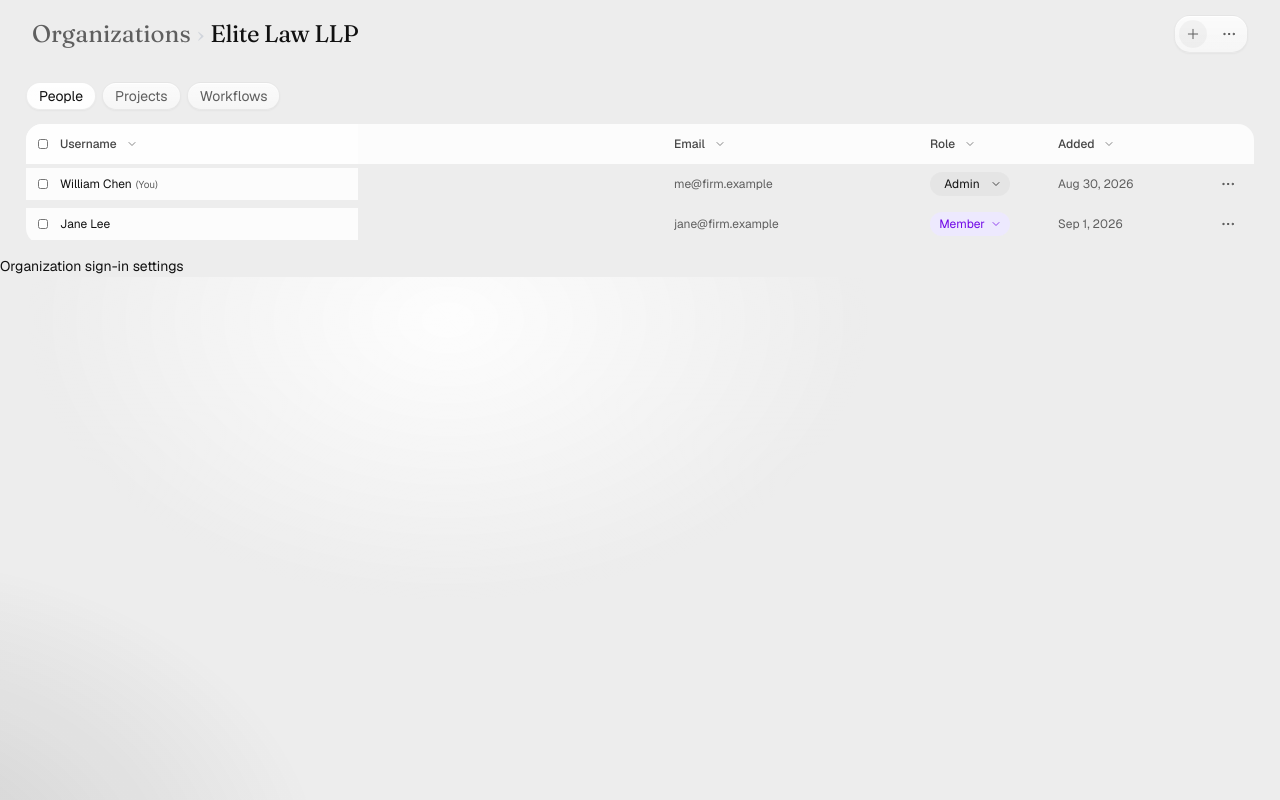
Test: OrganizationWorkspace › reveals a toolbar action and removes selected people
The width and height of the screenshot is (1280, 800).
Expected: the text "Jane Lee" is shown, top-left (60, 216), bottom-right (110, 232)
Expected: the button "Actions" is not shown
Click the checkbox named "Select Jane Lee". click: (43, 224)
box: top-left (38, 219), bottom-right (48, 229)
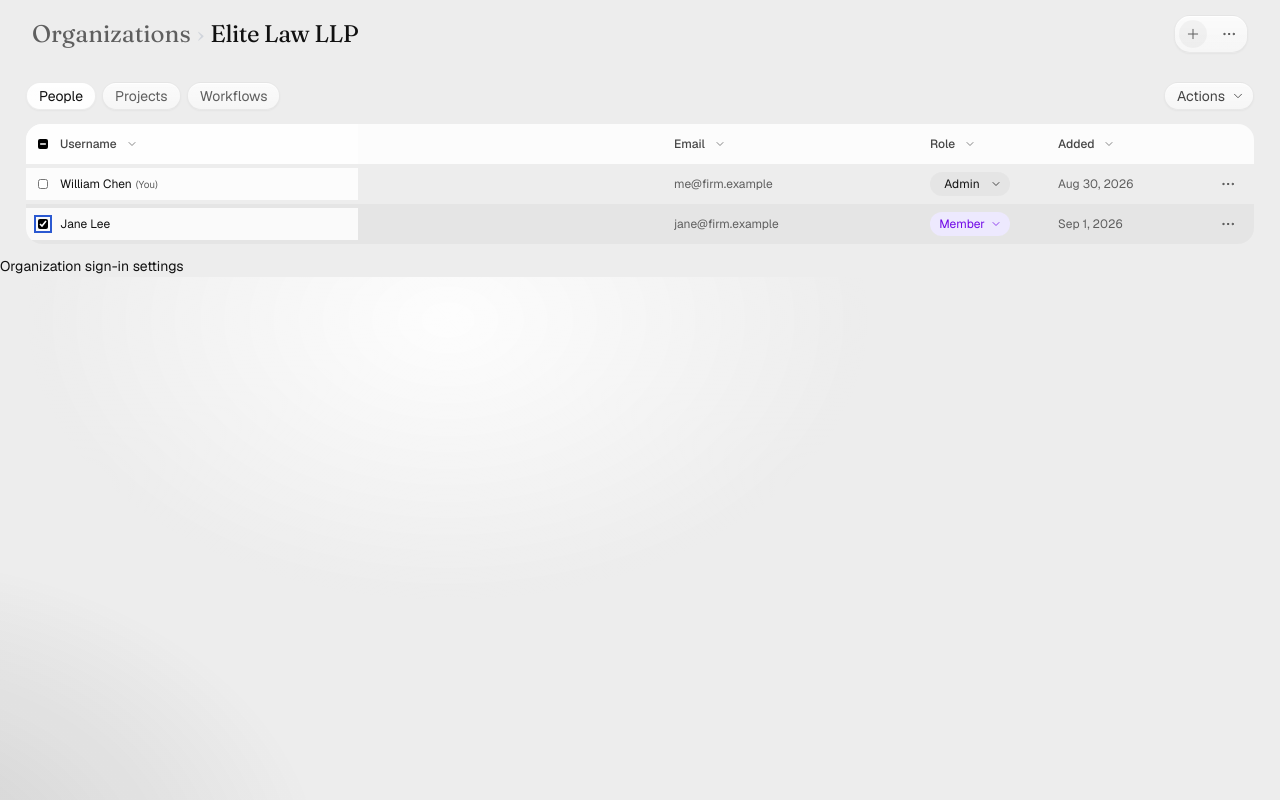
Click the button "Actions". click: (1209, 96)
box: top-left (1164, 82), bottom-right (1254, 110)
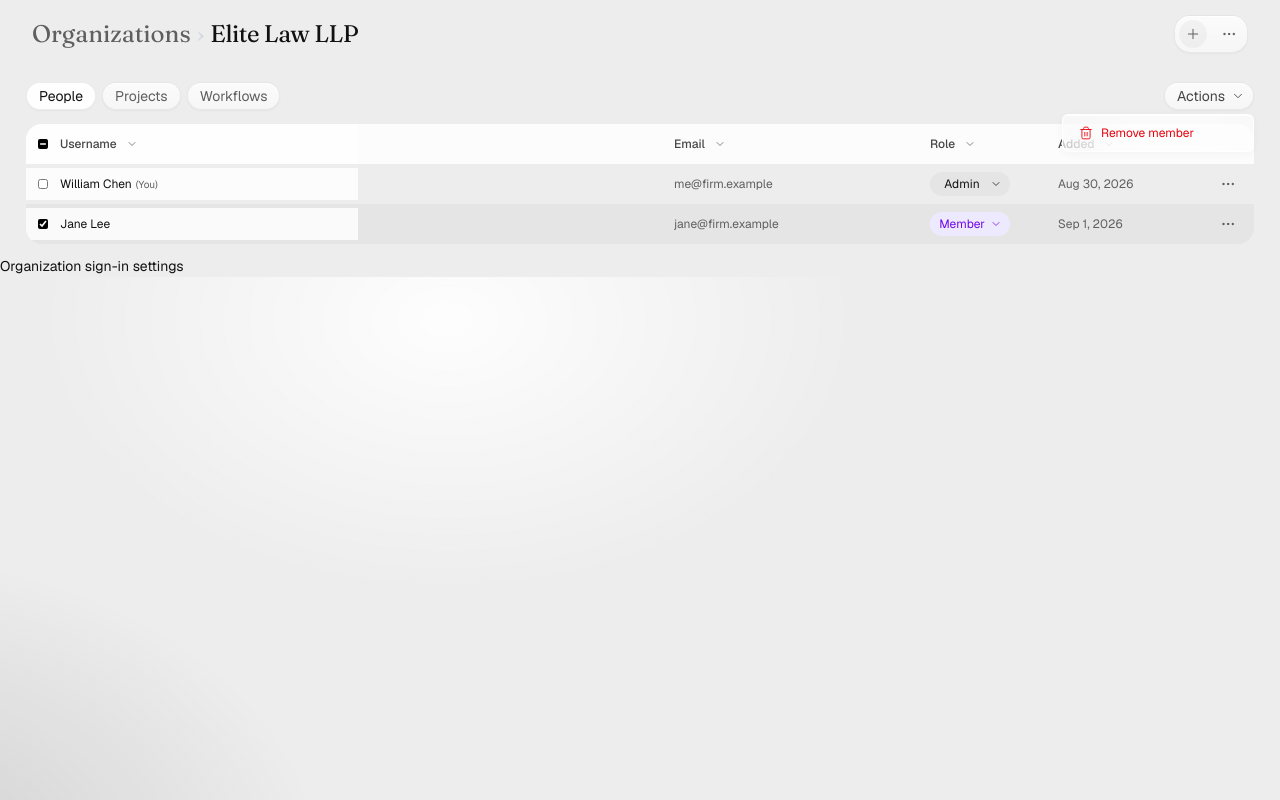
Click the menu item "Remove member". click: (1136, 133)
box: top-left (1079, 125), bottom-right (1194, 141)
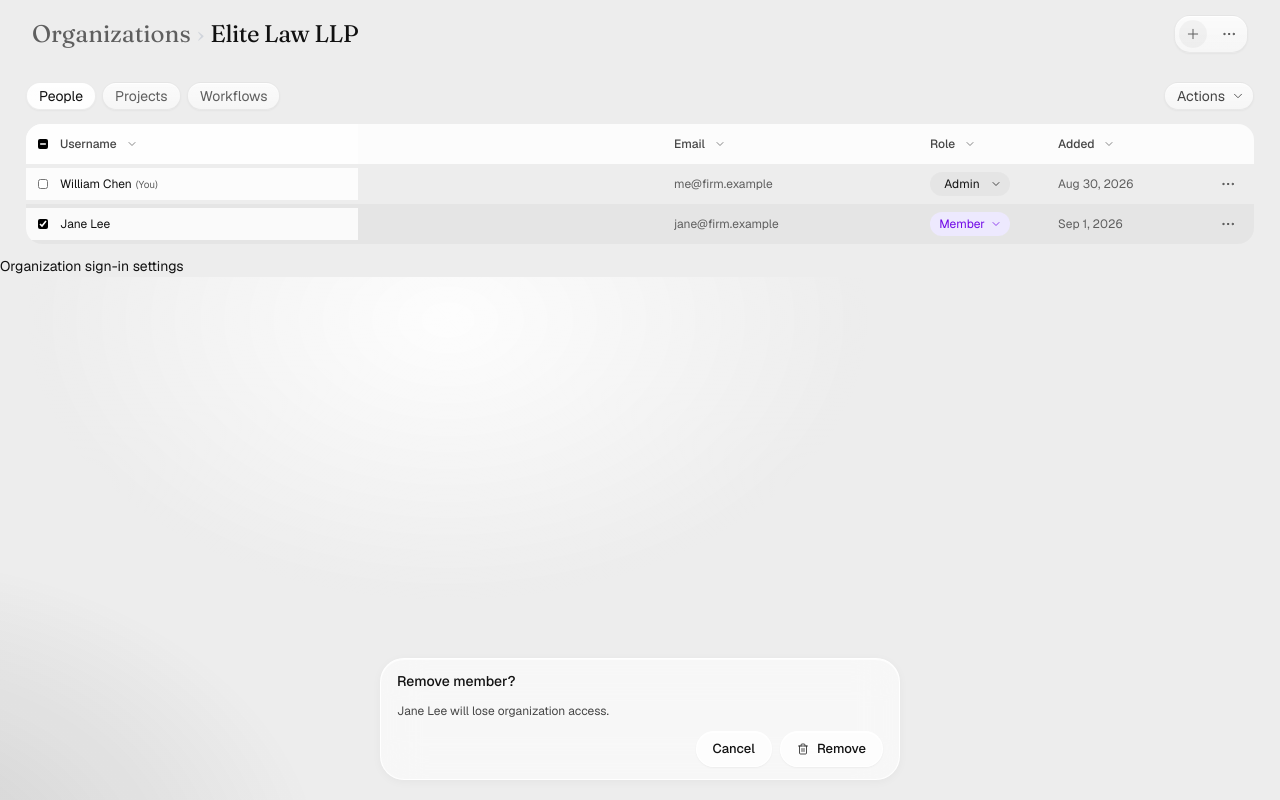
Expected: the text "Remove member?" is shown, top-left (397, 672), bottom-right (516, 690)
Click the 2nd button named "Remove". click: (831, 749)
box: top-left (780, 731), bottom-right (883, 767)
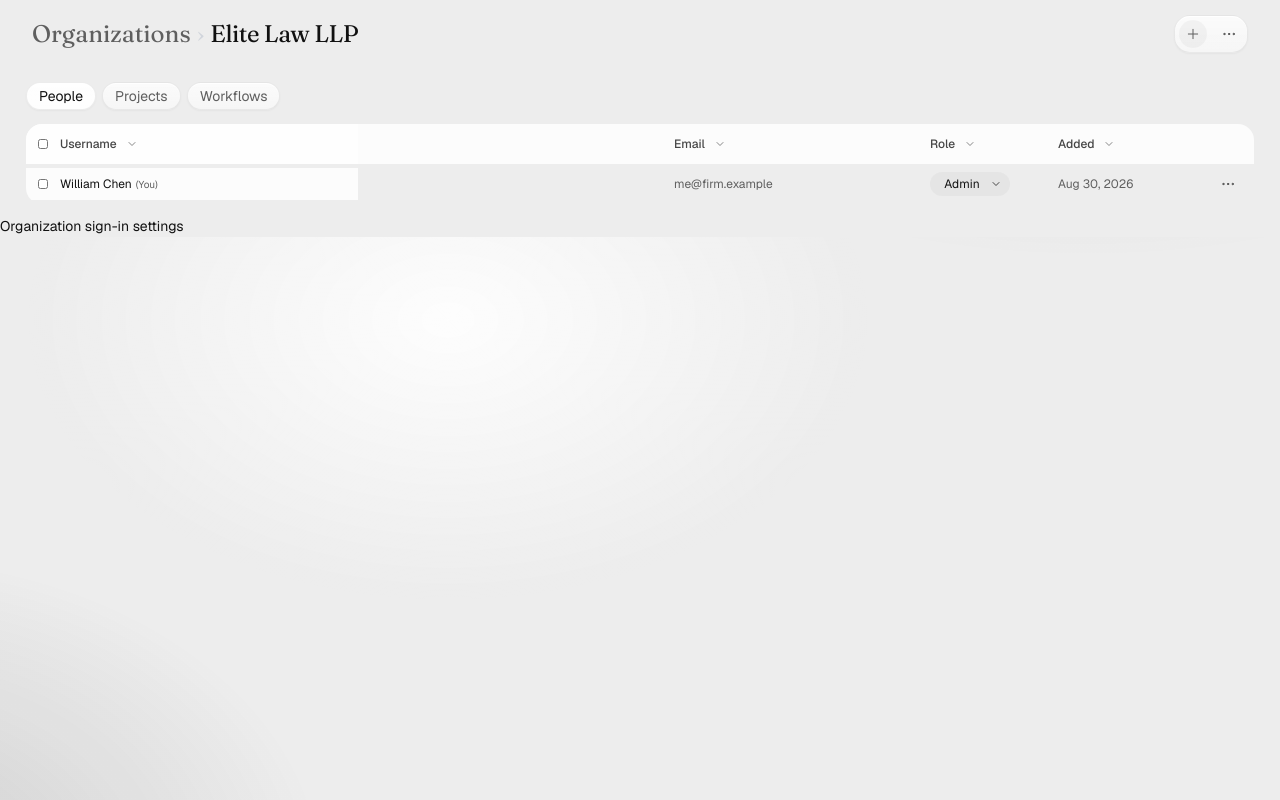
Expected: the text "Jane Lee" is gone
